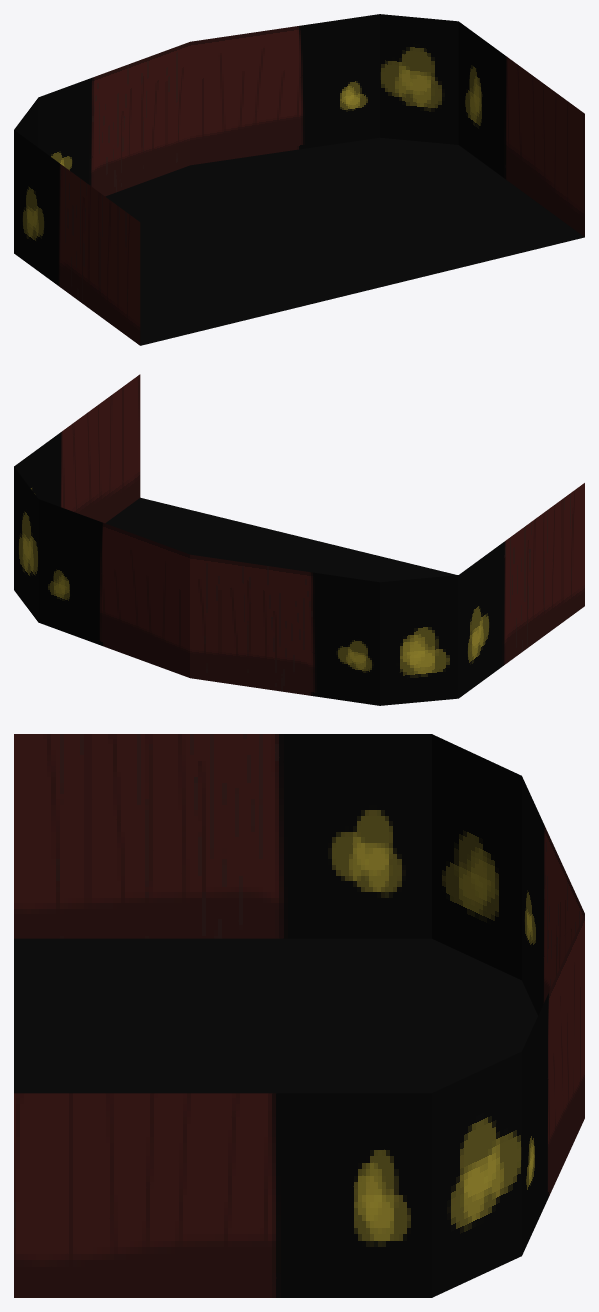
3 views of the same model, one above another, from view 1: azimuth 30°, elevation 25°; view 2: azimuth 150°, elevation 25°; view 3: azimuth 270°, elevation 25° (orthographic). The views are drawn at different scales.
Parts seen in each view (by area): view 1: Background; view 2: Background; view 3: Background.
Part boxes in pixels (x1=…): Background: x1=14, y1=14, x2=584, y2=345; Background: x1=14, y1=374, x2=584, y2=705; Background: x1=14, y1=734, x2=584, y2=1297.
Size of the model in its own units: 13.9 by 3.69 by 9.34.
Materials: 1 (1 with a texture image).
